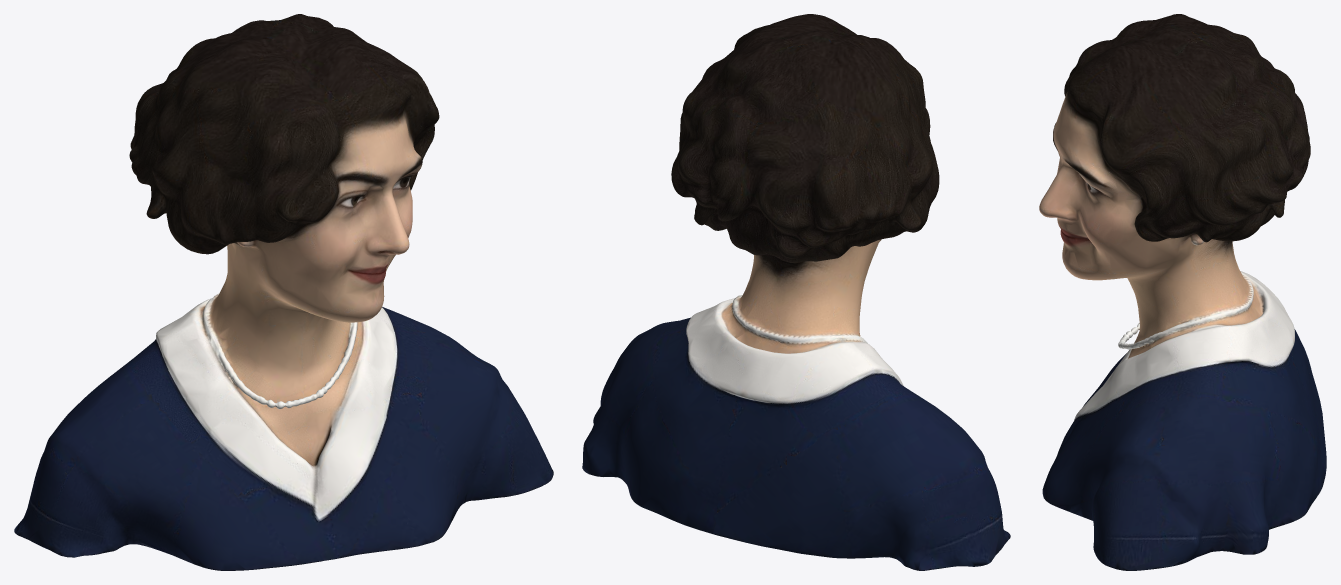
The picture shows the model from 3 angles, left to right: view 1: azimuth 30°, elevation 25°; view 2: azimuth 150°, elevation 25°; view 3: azimuth 270°, elevation 25°; orthographic projection. The views are drawn at different scales.
Size of the model in its own units: 1.9 by 1.85 by 1.11.
Materials: 1 (1 with a texture image).
